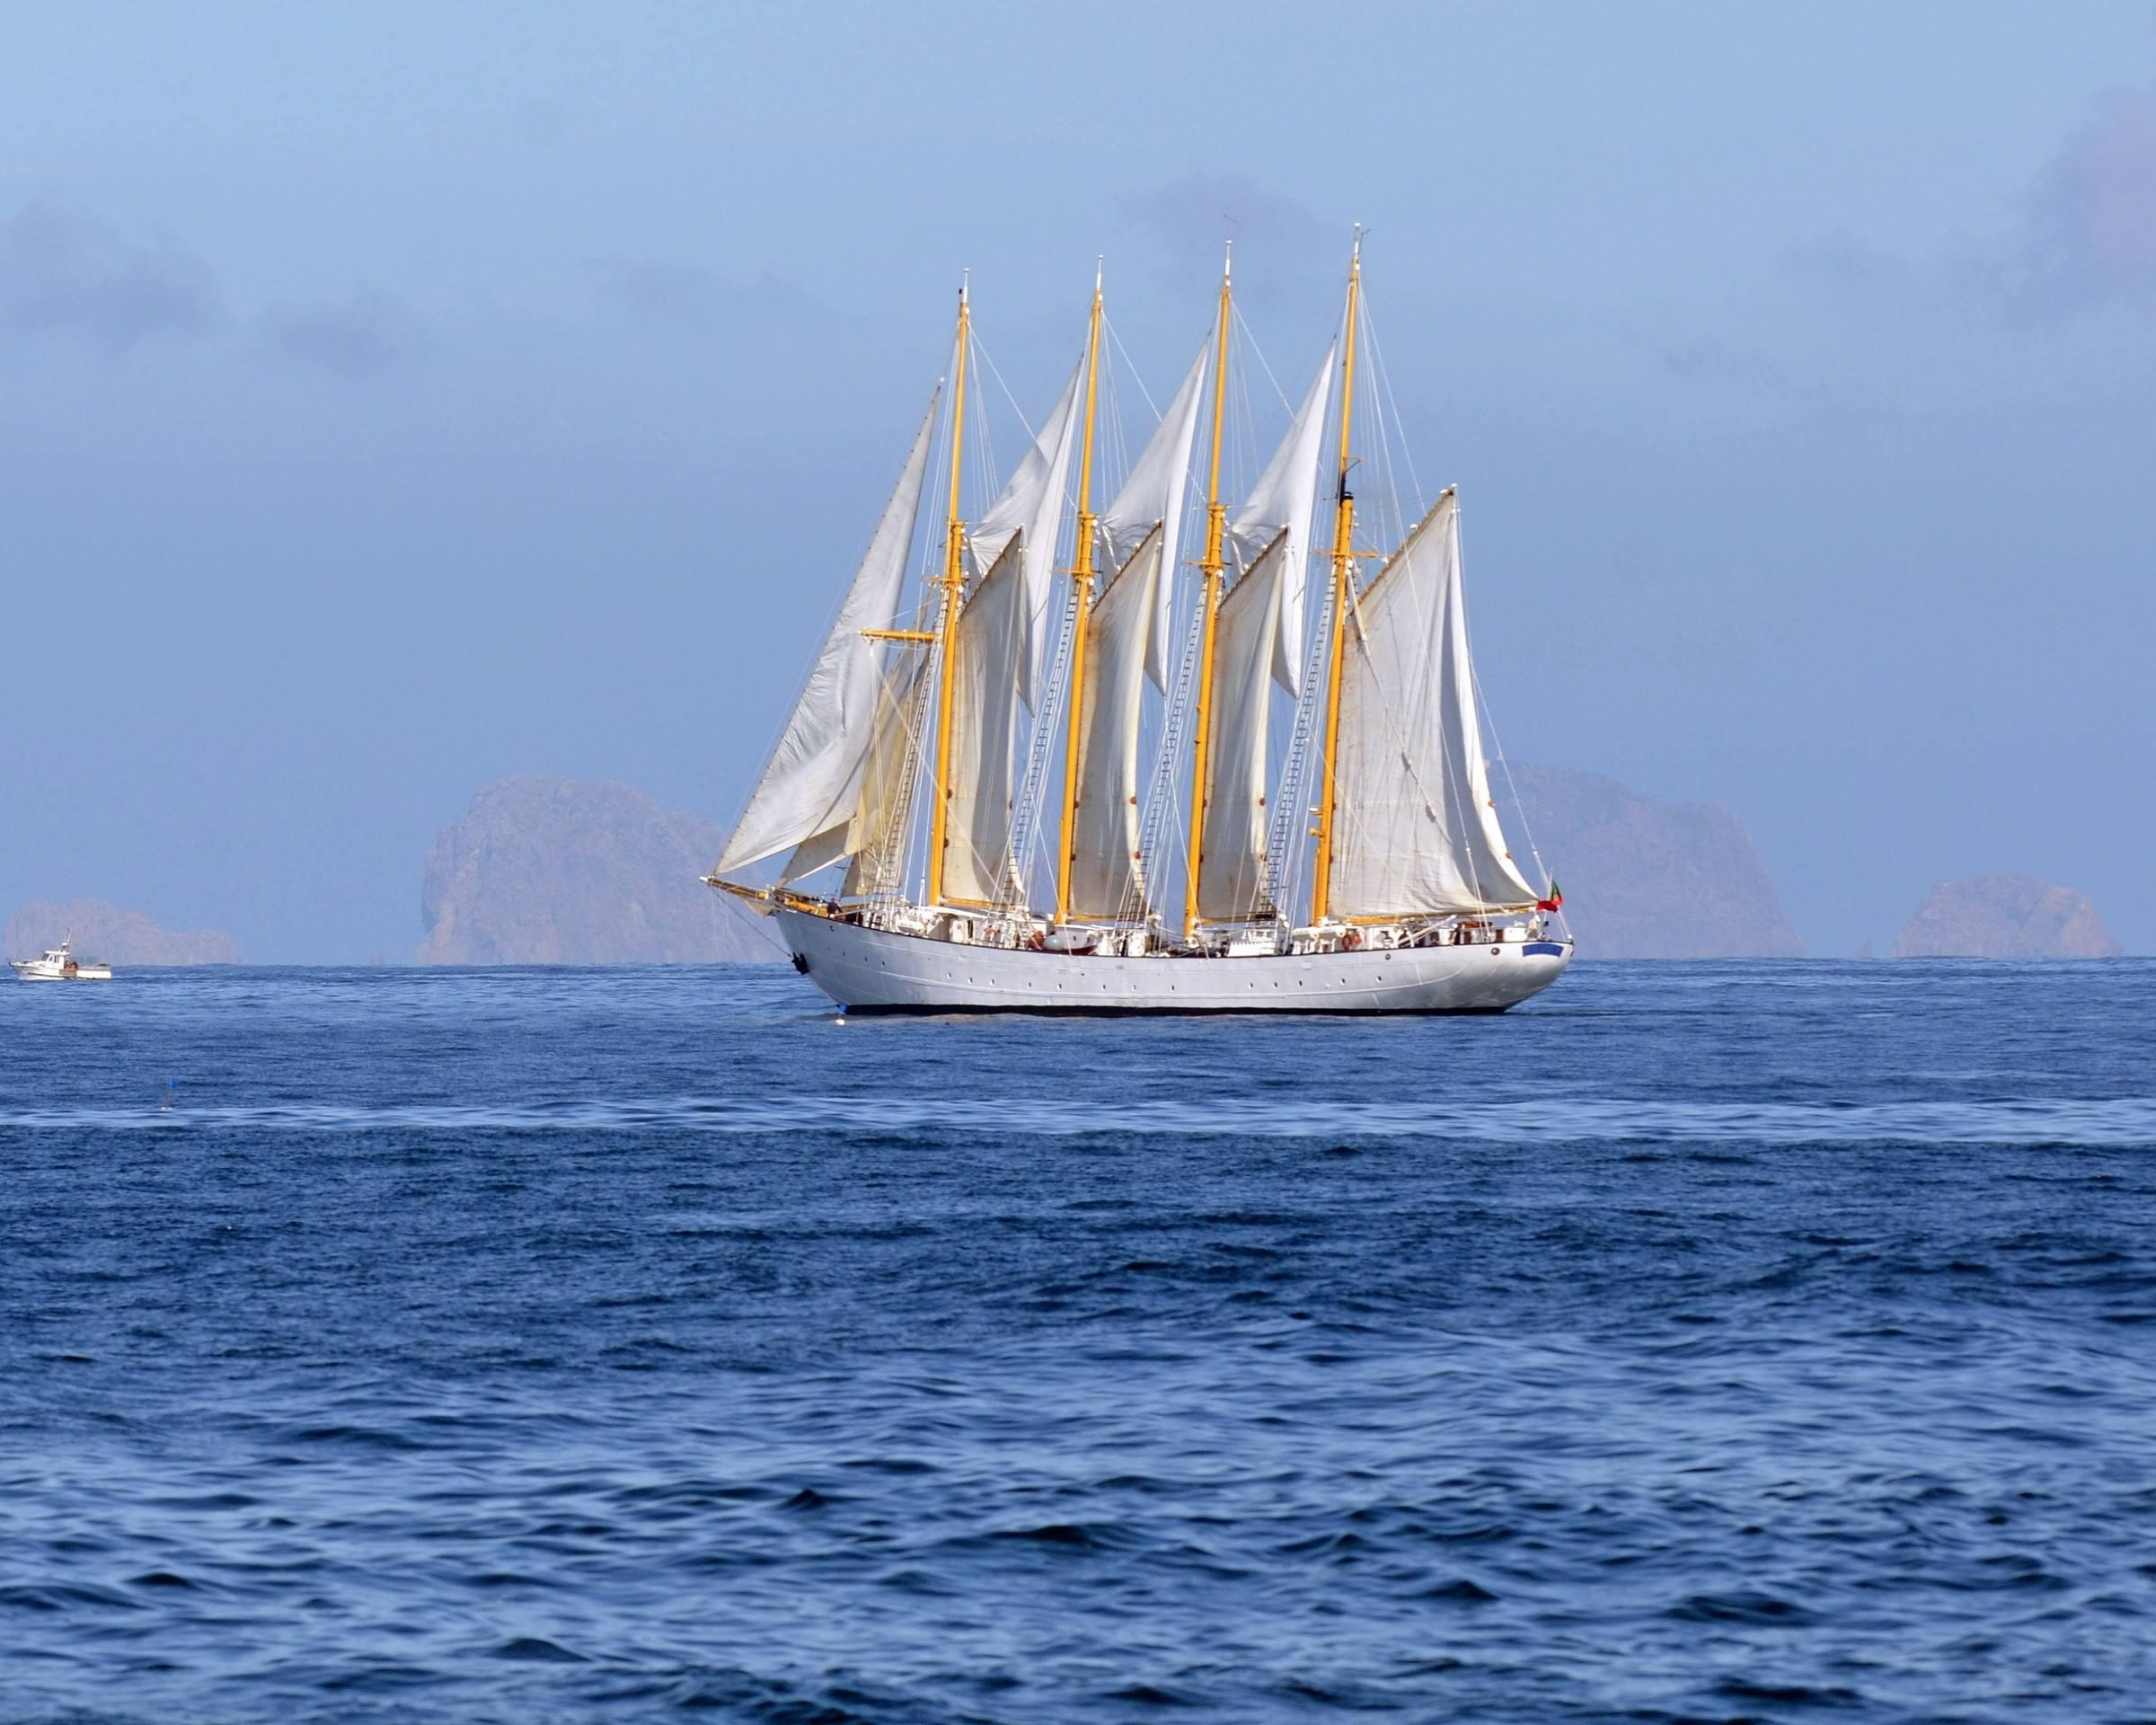fanchuan: (729, 211, 1588, 1012)
otherboat: (11, 940, 118, 986)
